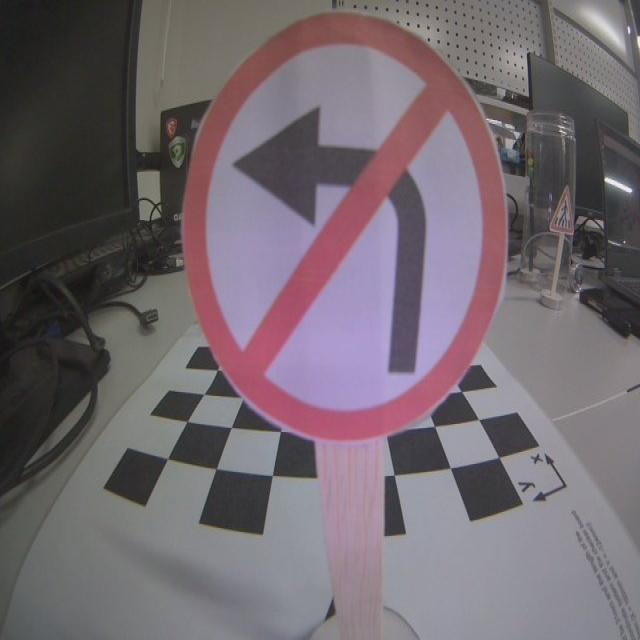Dilarang Belok Kiri: (182, 9, 500, 440)
